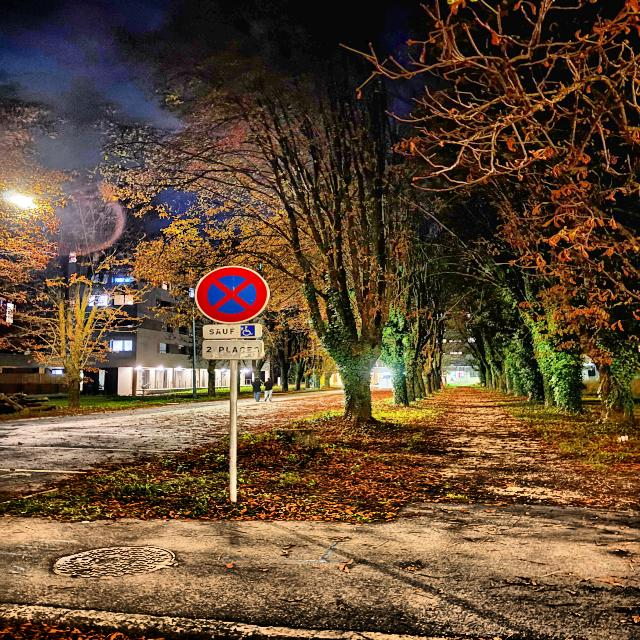arvore: (453, 18, 640, 439), (258, 52, 415, 422), (377, 83, 425, 404)
